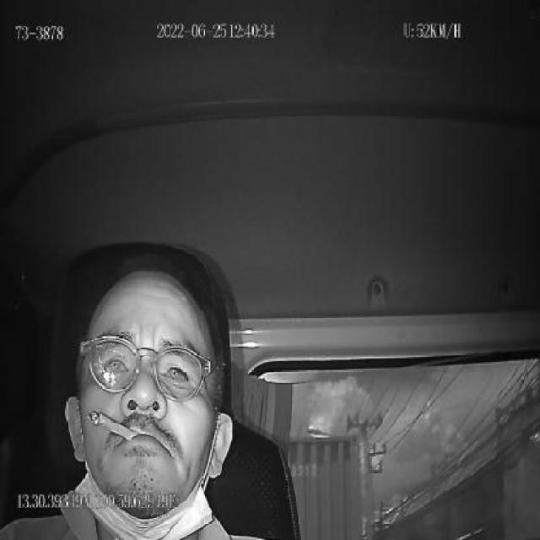smoking: (87, 408, 140, 442)
